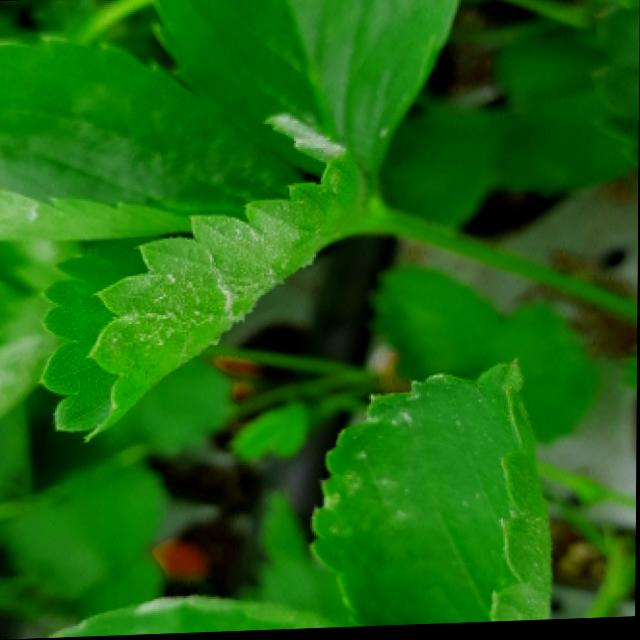Powdery Mildew Leaf: (35, 112, 378, 445), (312, 357, 552, 630), (150, 0, 462, 191)
